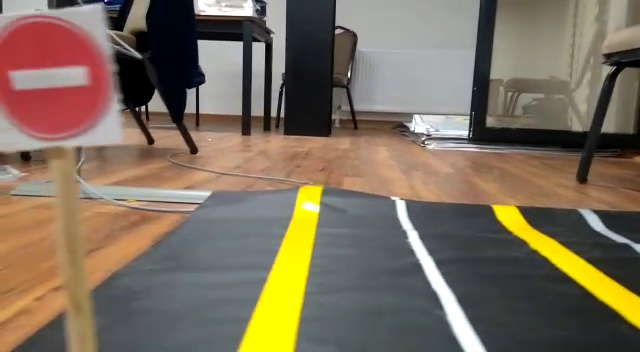girisi_olmayan_yol: (1, 18, 118, 141)
